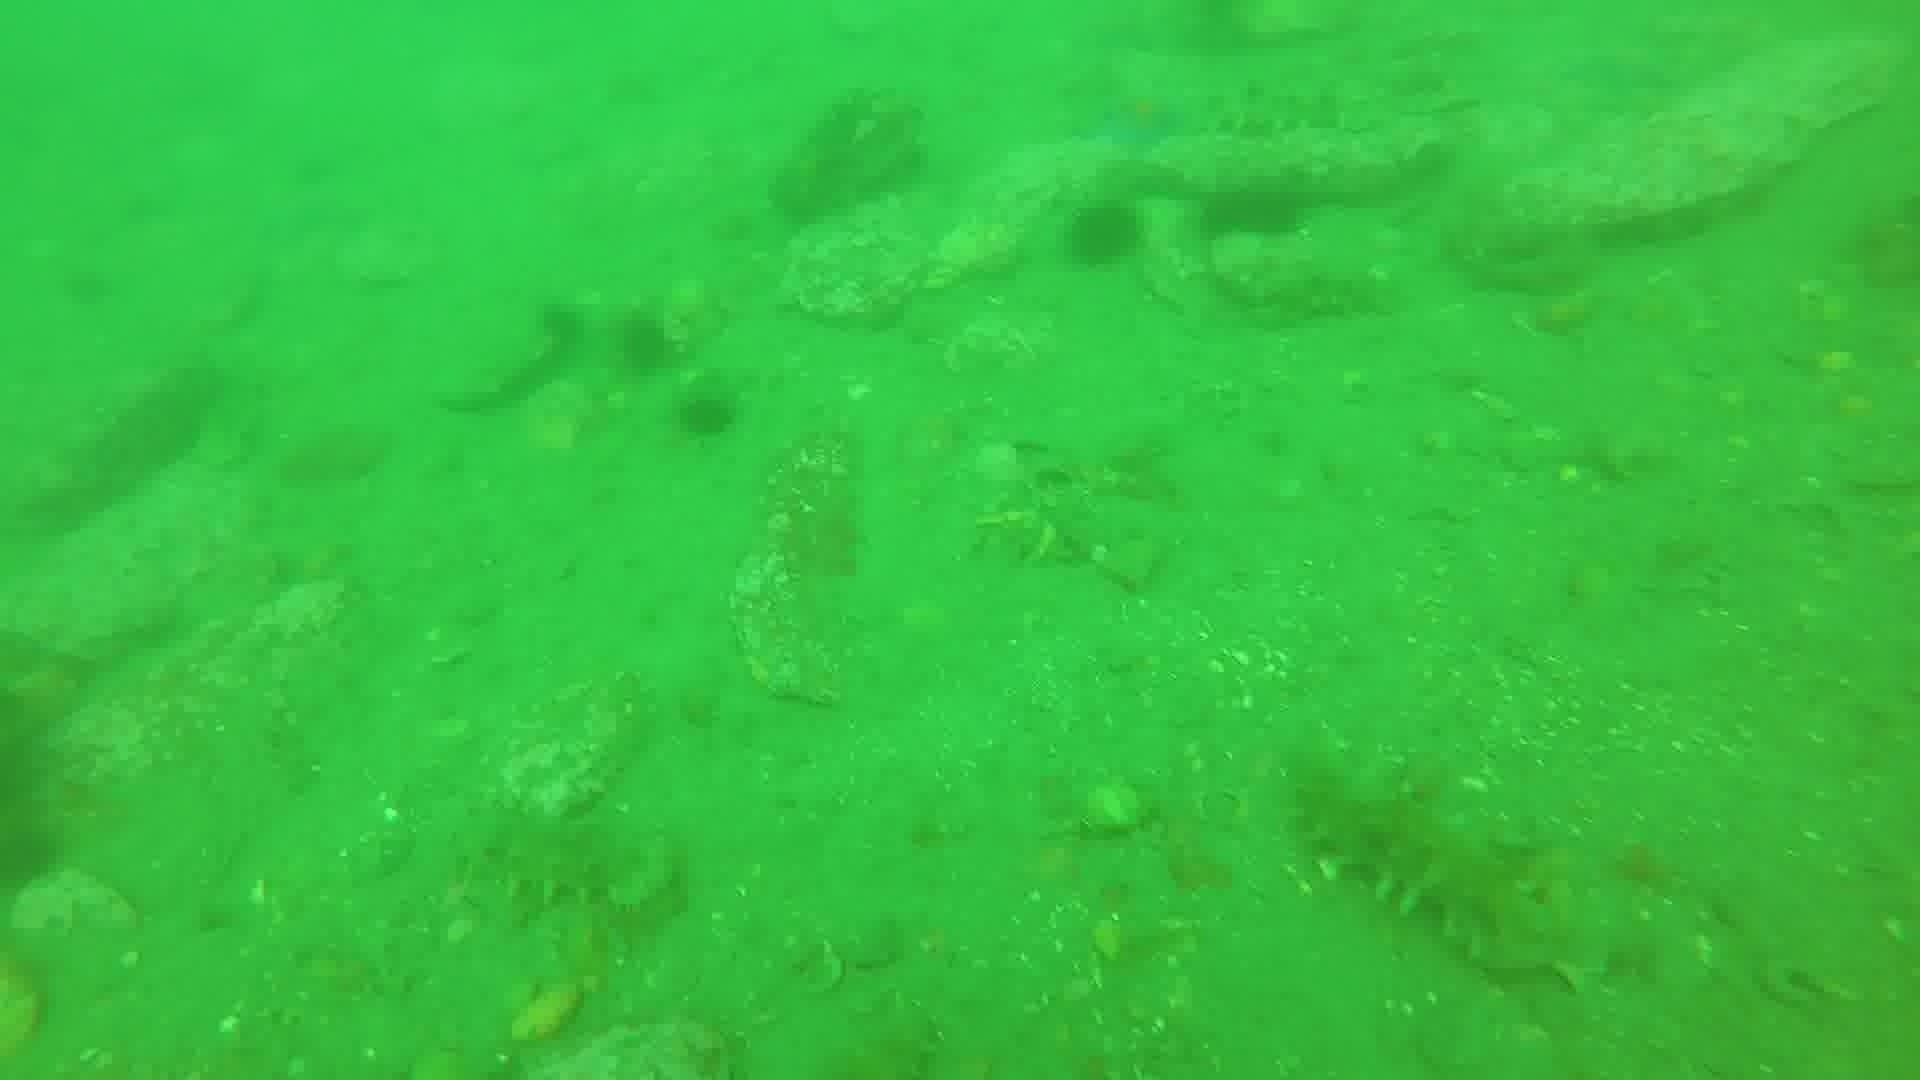echinus: (1196, 175, 1311, 249), (1062, 196, 1147, 272), (611, 309, 680, 381), (673, 386, 742, 444), (531, 295, 589, 357)
holothurian: (1288, 752, 1619, 989), (439, 795, 671, 915), (765, 84, 928, 228), (1222, 255, 1400, 330), (1192, 73, 1371, 146)
starfish: (1077, 82, 1196, 158), (1556, 36, 1684, 102)
